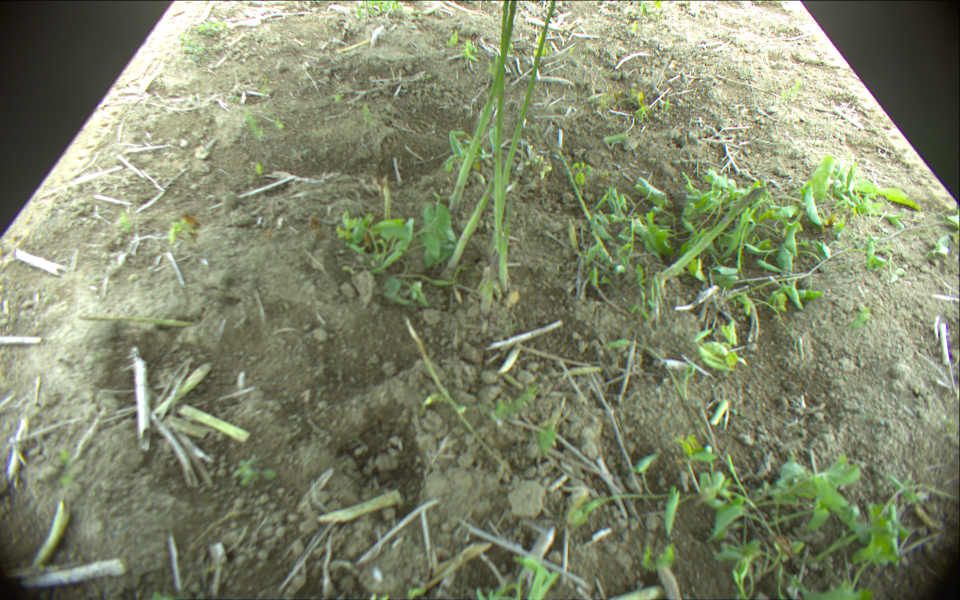aspa: (452, 1, 516, 208), (500, 1, 557, 218), (657, 187, 765, 282), (557, 150, 612, 263), (444, 176, 494, 270), (494, 1, 509, 251), (32, 501, 70, 574), (157, 363, 207, 418), (75, 313, 199, 334), (183, 409, 247, 442), (322, 494, 394, 521), (381, 176, 392, 226)
